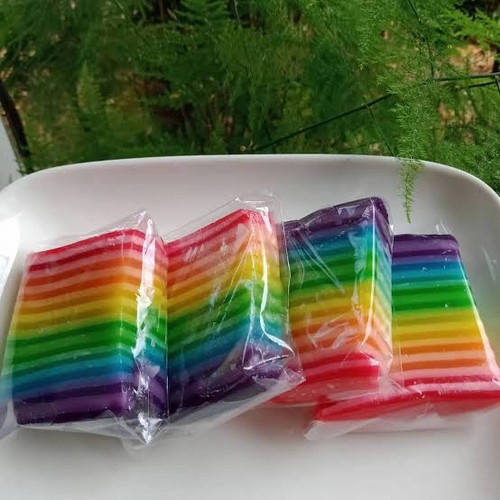kue_lapis_pelangi: (9, 227, 167, 426), (159, 208, 285, 426), (270, 197, 393, 404)
